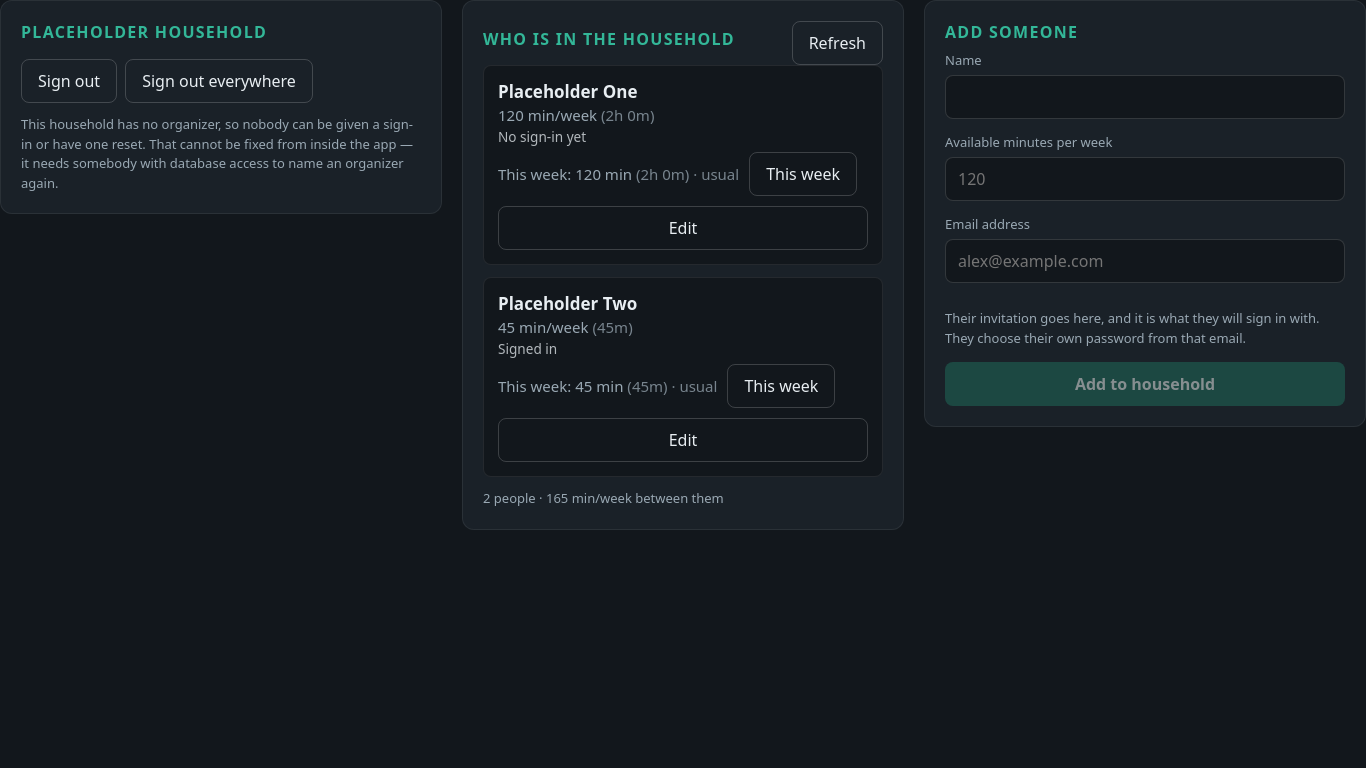
editing and removing — AC 4 › abandons an edit without saving it
This screenshot has width=1366, height=768.
Click the button "Edit" below "Placeholder One".
click(683, 228)  # box [498,206,868,250]
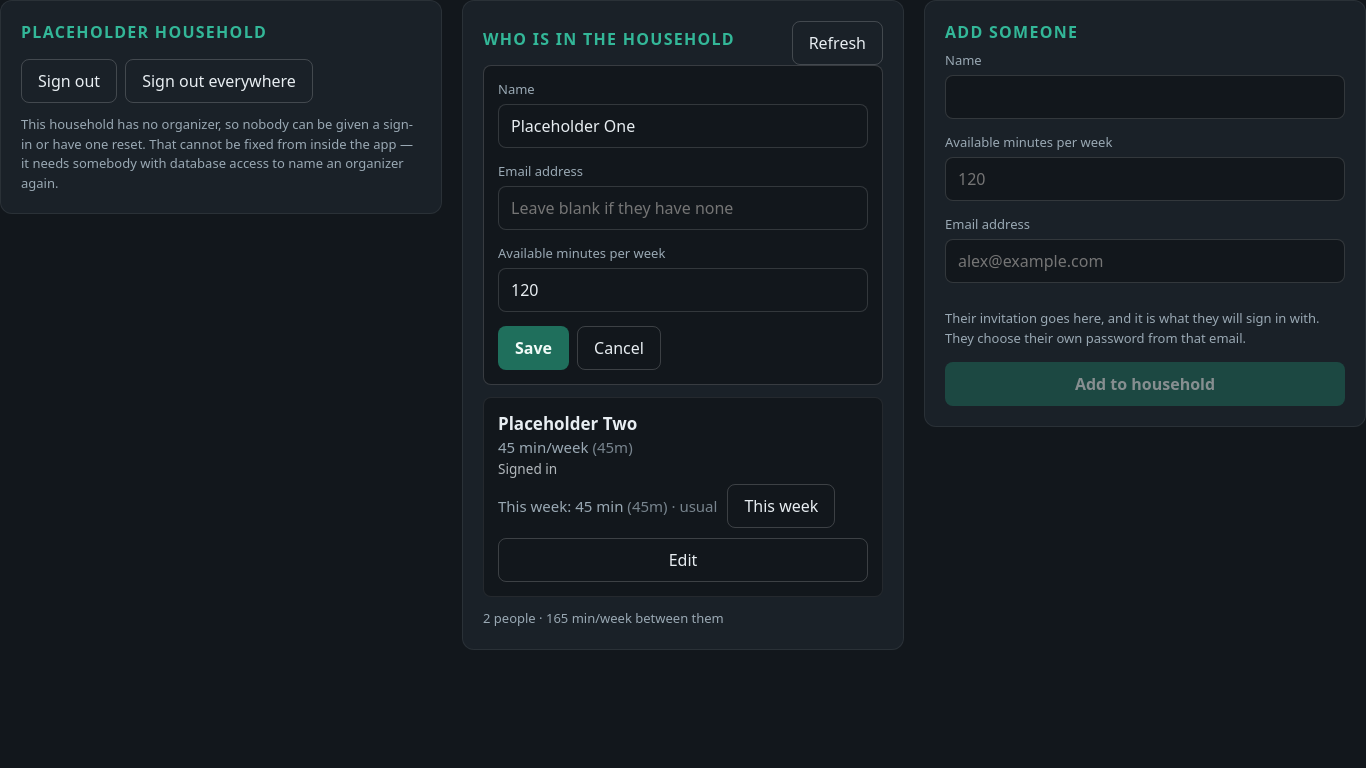
Replace the text in the field named "name for placeholder one" with "Discard me" at (683, 126), box [498,104,868,148]
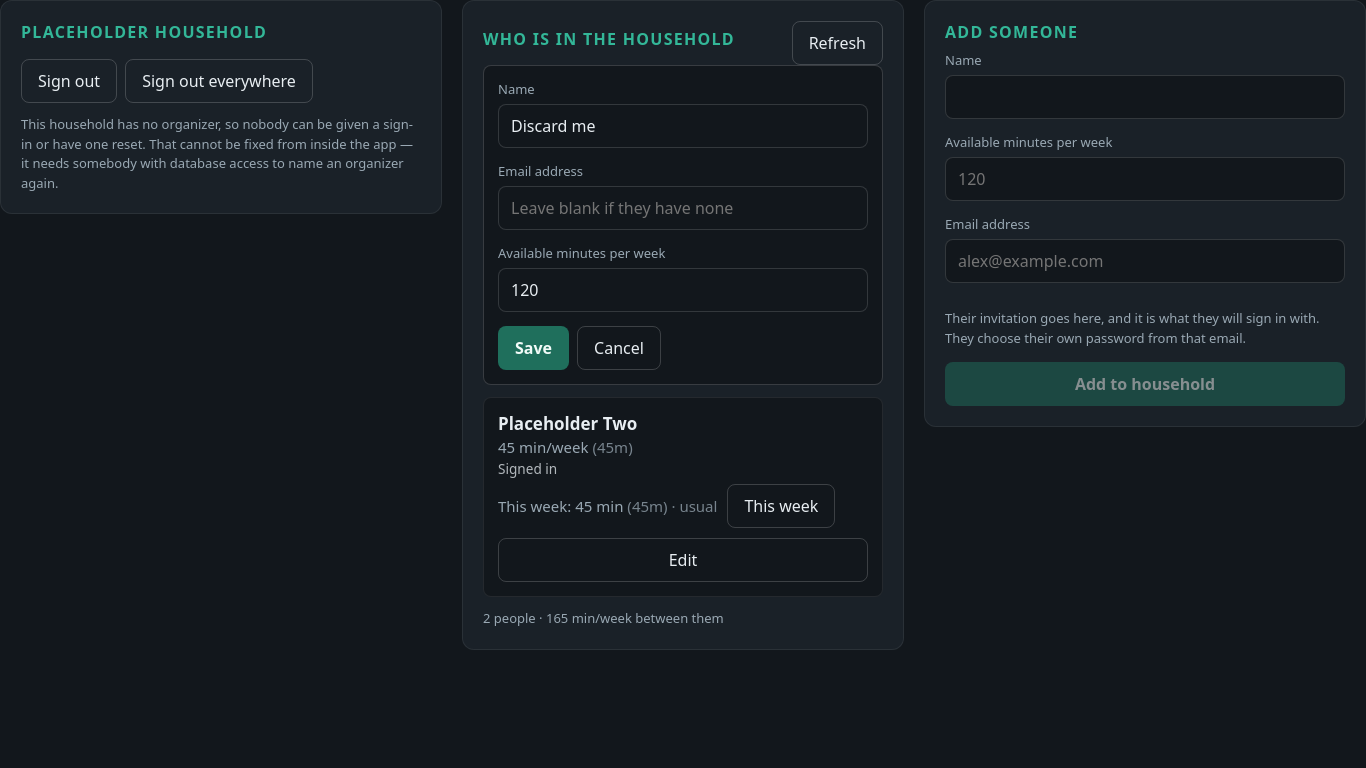
Click the button "Cancel".
click(619, 348)  # box [577,326,661,370]
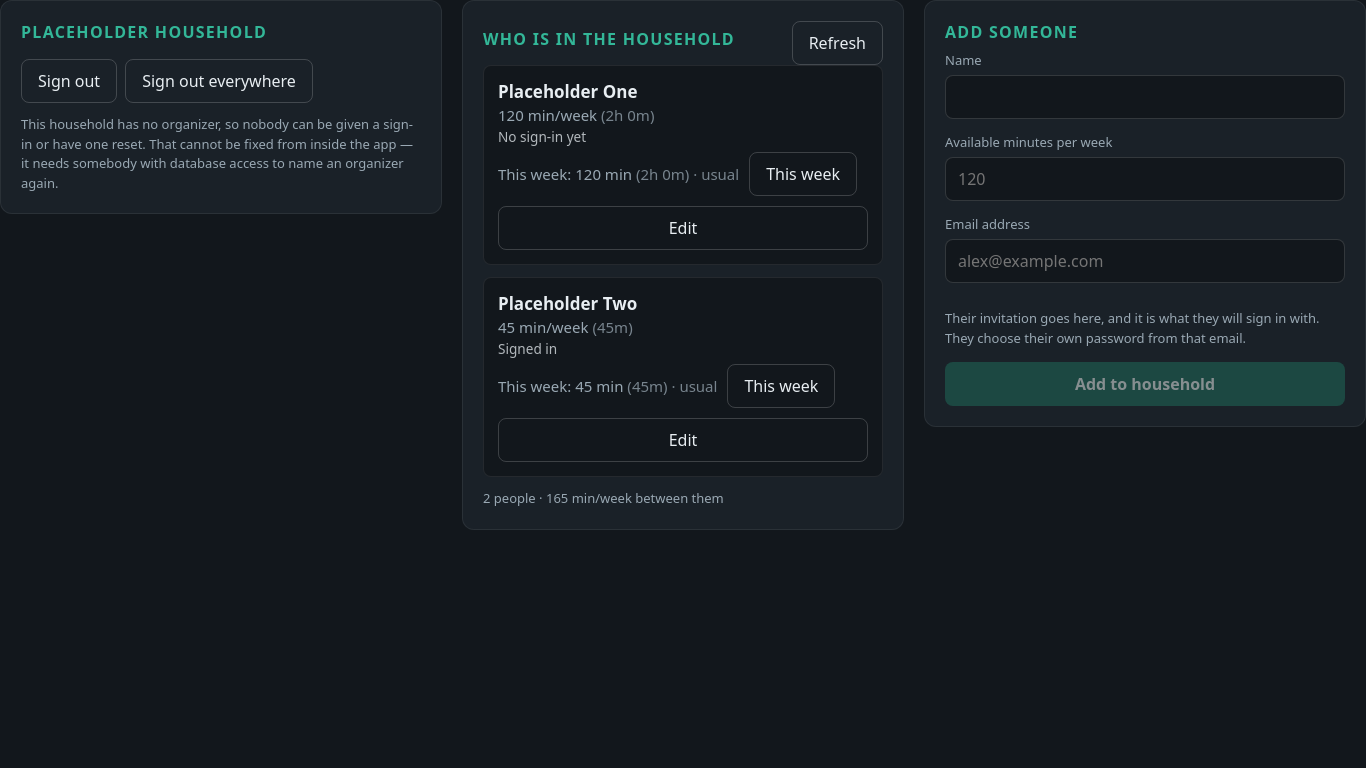
Expected: the text "Placeholder One" is shown, [498,80,638,103]
